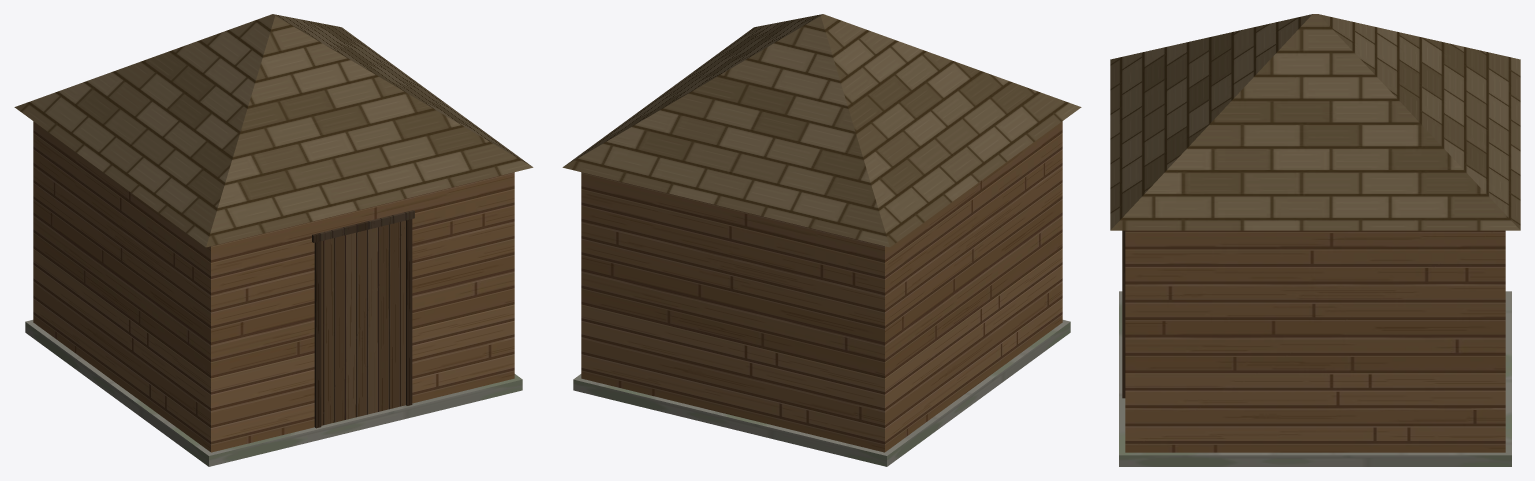
The model's file is house_hut.glb.
3 renders of one model, left to right at view 1: azimuth 30°, elevation 25°; view 2: azimuth 150°, elevation 25°; view 3: azimuth 270°, elevation 25°, orthographic. The views are drawn at different scales.
Visible parts, largest first — view 1: ae_forest_house_hut; view 2: ae_forest_house_hut; view 3: ae_forest_house_hut.
Boxes of the visible parts, x1,y1,x2,y2 form: ae_forest_house_hut: (14, 14, 533, 466); ae_forest_house_hut: (562, 14, 1081, 466); ae_forest_house_hut: (1110, 14, 1520, 466).
Bounding box in the file's own units: 3.78 × 3.82 × 3.83.
1 material, 1 textured.
